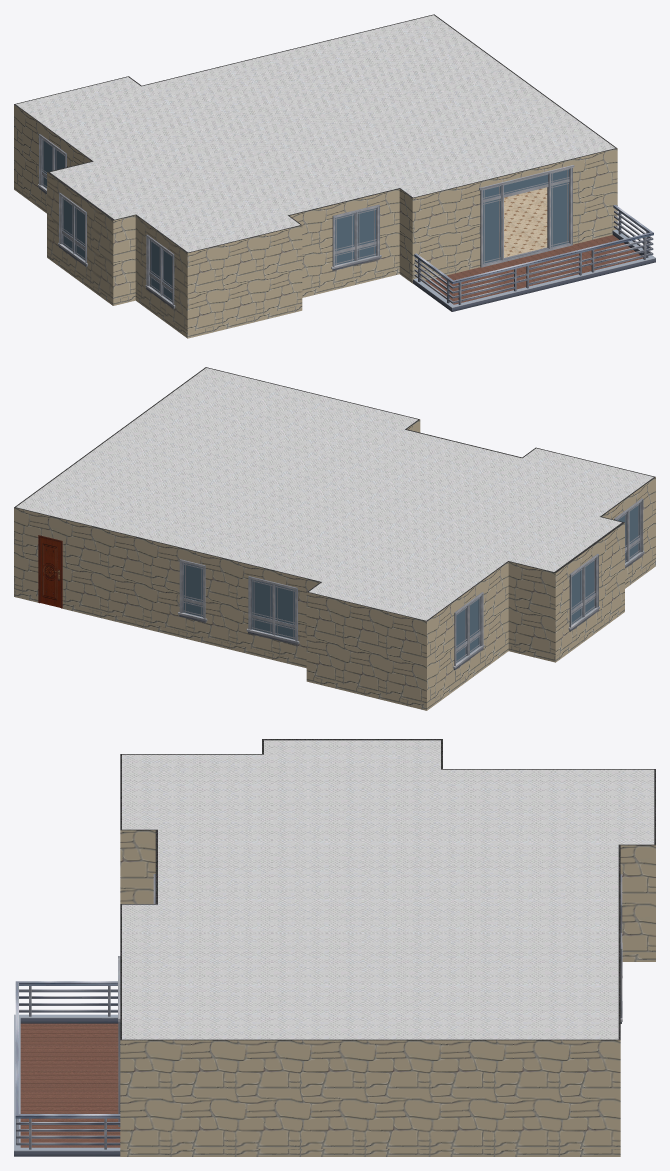
File: house_0120400.FBX
3 views of the same model, one above another, from view 1: azimuth 30°, elevation 25°; view 2: azimuth 150°, elevation 25°; view 3: azimuth 270°, elevation 25° (orthographic). The views are drawn at different scales.
Parts seen in each view (by area): view 1: house_0120400_roof_100_00, house_0120400_outwall_100_013, house_0120400_outwall_100_09, house_0120400_floor_108_00, house_0120400_outwall_100_011, house_0120400_outwall_101_03, house_0120400_outwall_100_06, house_0120400_outwall_100_08, house_0120400_outwall_100_04, house_0120400_floor_107_00, house_0120400_floor_101_00, house_0120400_outwall_100_07 (+7 smaller); view 2: house_0120400_roof_100_00, house_0120400_outwall_100_01, house_0120400_outwall_100_03, house_0120400_outwall_100_04, house_0120400_outwall_100_06, house_0120400_outwall_100_05, house_0120400_floor_103_00, house_0120400_tcx_100_01, house_0120400_outwall_100_08, house_0120400_floor_105_00, house_0120400_floor_104_00, house_0120400_outwall_101_01 (+4 smaller); view 3: house_0120400_roof_100_00, house_0120400_outwall_100_00, house_0120400_floor_108_00, house_0120400_tcx_100_00, house_0120400_outwall_100_02, house_0120400_outwall_100_010, house_0120400_outedge_100_00.
Boxes of the visible parts, x1=… form: house_0120400_roof_100_00: x1=16, y1=15, x2=615, y2=252; house_0120400_outwall_100_013: x1=412, y1=148, x2=617, y2=277; house_0120400_outwall_100_09: x1=187, y1=225, x2=302, y2=332; house_0120400_floor_108_00: x1=413, y1=205, x2=655, y2=311; house_0120400_outwall_100_011: x1=290, y1=189, x2=399, y2=291; house_0120400_outwall_101_03: x1=479, y1=165, x2=574, y2=267; house_0120400_outwall_100_06: x1=47, y1=172, x2=113, y2=299; house_0120400_outwall_100_08: x1=135, y1=215, x2=187, y2=332; house_0120400_outwall_100_04: x1=14, y1=104, x2=91, y2=207; house_0120400_floor_107_00: x1=331, y1=204, x2=381, y2=270; house_0120400_floor_101_00: x1=504, y1=187, x2=547, y2=257; house_0120400_outwall_100_07: x1=113, y1=215, x2=135, y2=299; house_0120400_roof_100_00: x1=16, y1=368, x2=653, y2=620; house_0120400_outwall_100_01: x1=14, y1=507, x2=319, y2=661; house_0120400_outwall_100_03: x1=306, y1=592, x2=426, y2=704; house_0120400_outwall_100_04: x1=427, y1=562, x2=508, y2=704; house_0120400_outwall_100_06: x1=555, y1=523, x2=624, y2=655; house_0120400_outwall_100_05: x1=508, y1=562, x2=555, y2=656; house_0120400_floor_103_00: x1=246, y1=576, x2=299, y2=645; house_0120400_tcx_100_01: x1=14, y1=591, x2=306, y2=668; house_0120400_outwall_100_08: x1=602, y1=477, x2=655, y2=582; house_0120400_floor_105_00: x1=568, y1=554, x2=599, y2=631; house_0120400_floor_104_00: x1=453, y1=592, x2=484, y2=670; house_0120400_outwall_101_01: x1=38, y1=535, x2=62, y2=608; house_0120400_roof_100_00: x1=122, y1=740, x2=654, y2=1039; house_0120400_outwall_100_00: x1=120, y1=1040, x2=620, y2=1148; house_0120400_floor_108_00: x1=14, y1=981, x2=120, y2=1156; house_0120400_tcx_100_00: x1=120, y1=1149, x2=620, y2=1156; house_0120400_outwall_100_02: x1=620, y1=845, x2=655, y2=953; house_0120400_outwall_100_010: x1=120, y1=830, x2=155, y2=903; house_0120400_outedge_100_00: x1=121, y1=1039, x2=619, y2=1040.
Size of the model in its own units: 1613 by 290 by 1447.
75 materials, 74 textured.
